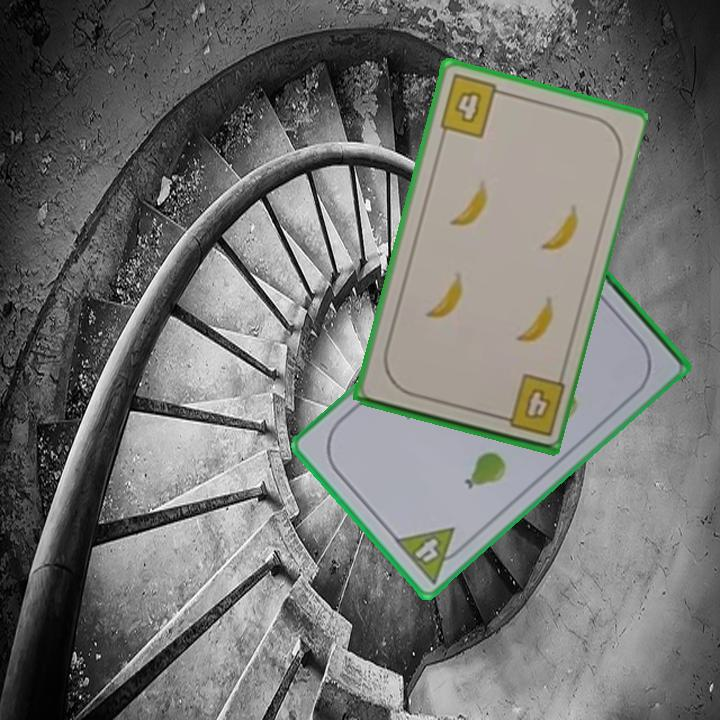4b: (492, 370, 567, 440), (436, 70, 509, 141)
4p: (390, 523, 471, 587)
